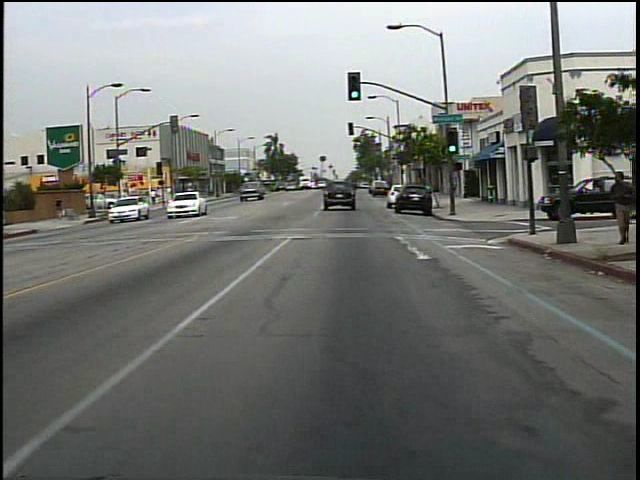person: (601, 165, 628, 249), (52, 194, 71, 223), (148, 185, 164, 210)
